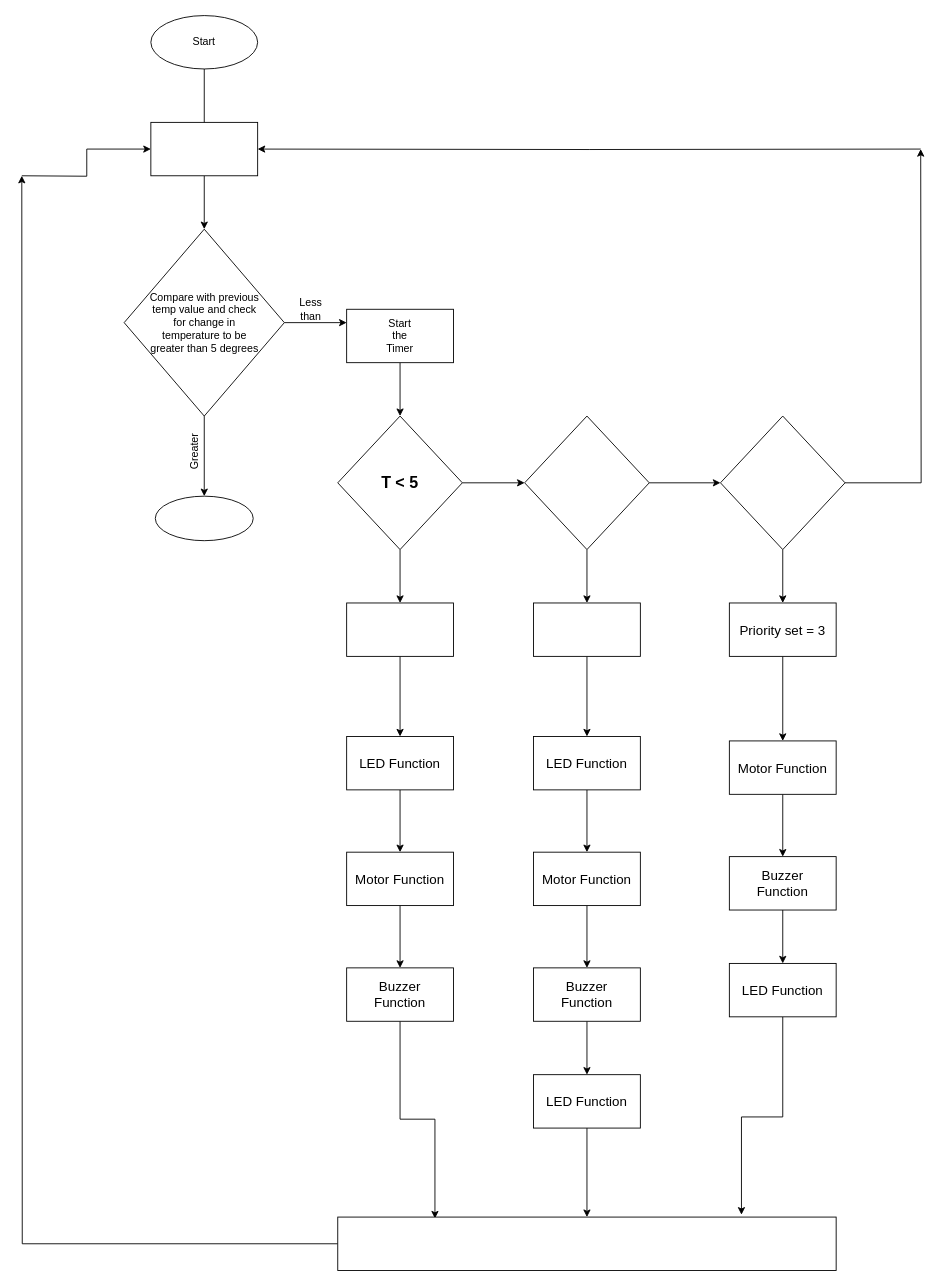
This 944x1286 diagram has some shape labels left out. The shapes that lost their labels are listed below. From the top down, each one's centre as x and y in pixels, then its label:
At point 204,148: "Read the value of temperature".
At point 586,482: "5 < T < 10".
At point 782,482: "10 < T < 15".
At point 203,518: "End".
At point 399,629: "Priority set = 1".
At point 586,629: "Priority set = 2".
At point 586,1243: "Send the data to the server using the esp8266 wifi module".
